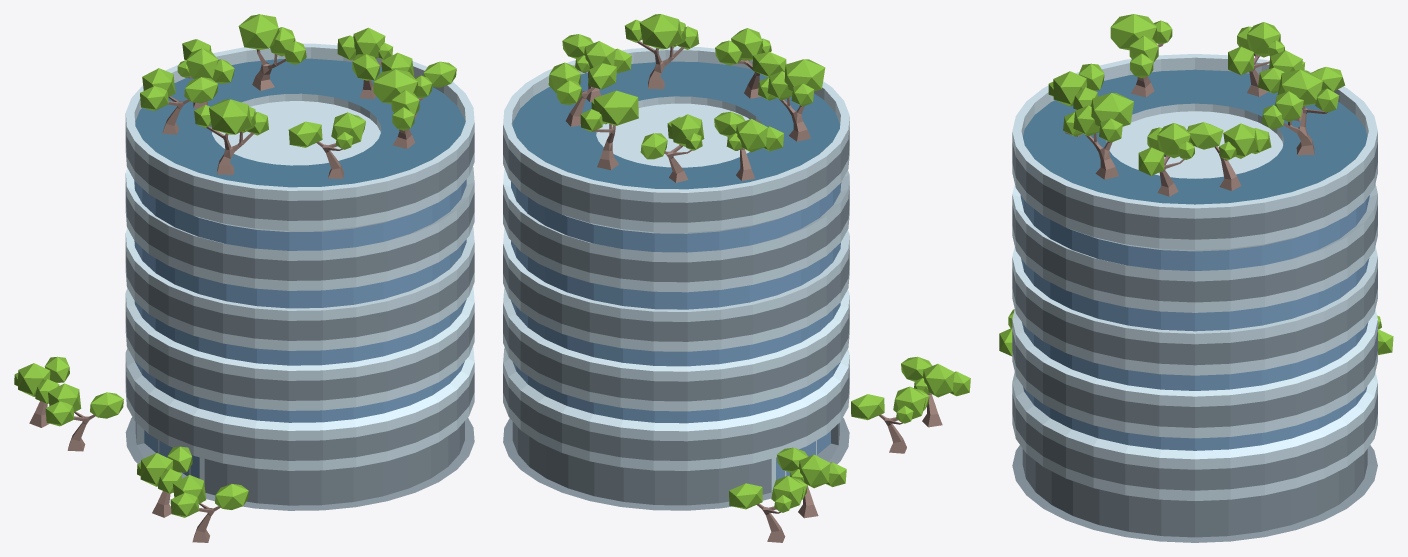
The model's file is apartment2.glb.
The picture shows the model from 3 angles, left to right: view 1: azimuth 30°, elevation 25°; view 2: azimuth 150°, elevation 25°; view 3: azimuth 270°, elevation 25°; orthographic projection. The views are drawn at different scales.
Parts seen in each view (by area): view 1: Cylinder, Cube.005, Cube.007, Cube.006, Cube.008, Cube.004, Cube, Cube.010, Cube.009, Cube.001, Cube.003, Cube.012 (+1 smaller); view 2: Cylinder, Cube.005, Cube.007, Cube.010, Cube, Cube.006, Cube.004, Cube.001, Cube.003, Cube.008, Cube.009, Cube.012 (+1 smaller); view 3: Cylinder, Cube.006, Cube.007, Cube.005, Cube.009, Cube.011, Cube, Cube.010, Cube.012.
Boxes of the visible parts, bbox=[...] form: Cylinder: bbox=[125, 43, 474, 510]; Cube.005: bbox=[194, 99, 268, 174]; Cube.007: bbox=[373, 69, 432, 148]; Cube.006: bbox=[238, 14, 306, 90]; Cube.008: bbox=[45, 383, 123, 451]; Cube.004: bbox=[170, 475, 248, 542]; Cube: bbox=[140, 68, 218, 134]; Cube.010: bbox=[288, 112, 365, 178]; Cube.009: bbox=[337, 27, 392, 99]; Cube.001: bbox=[137, 446, 192, 517]; Cube.003: bbox=[14, 356, 69, 427]; Cube.012: bbox=[177, 39, 234, 108]; Cylinder: bbox=[503, 46, 849, 510]; Cube.005: bbox=[758, 59, 825, 141]; Cube.007: bbox=[625, 14, 699, 89]; Cube.010: bbox=[715, 28, 786, 98]; Cube: bbox=[714, 111, 783, 180]; Cube.006: bbox=[580, 90, 638, 170]; Cube.004: bbox=[901, 356, 970, 427]; Cube.001: bbox=[851, 386, 929, 453]; Cube.003: bbox=[729, 476, 807, 542]; Cube.008: bbox=[777, 447, 846, 518]; Cube.009: bbox=[548, 62, 616, 126]; Cube.012: bbox=[640, 114, 704, 182]; Cylinder: bbox=[1012, 54, 1377, 542]; Cube.006: bbox=[1261, 69, 1339, 155]; Cube.007: bbox=[1063, 93, 1133, 179]; Cube.005: bbox=[1110, 14, 1172, 97]; Cube.009: bbox=[1187, 122, 1271, 190]; Cube.011: bbox=[1138, 123, 1194, 196]; Cube: bbox=[1228, 22, 1284, 96]; Cube.010: bbox=[1048, 63, 1104, 136]; Cube.012: bbox=[1258, 50, 1345, 121].
Size of the model in its own units: 8.41 by 8.49 by 7.55.
